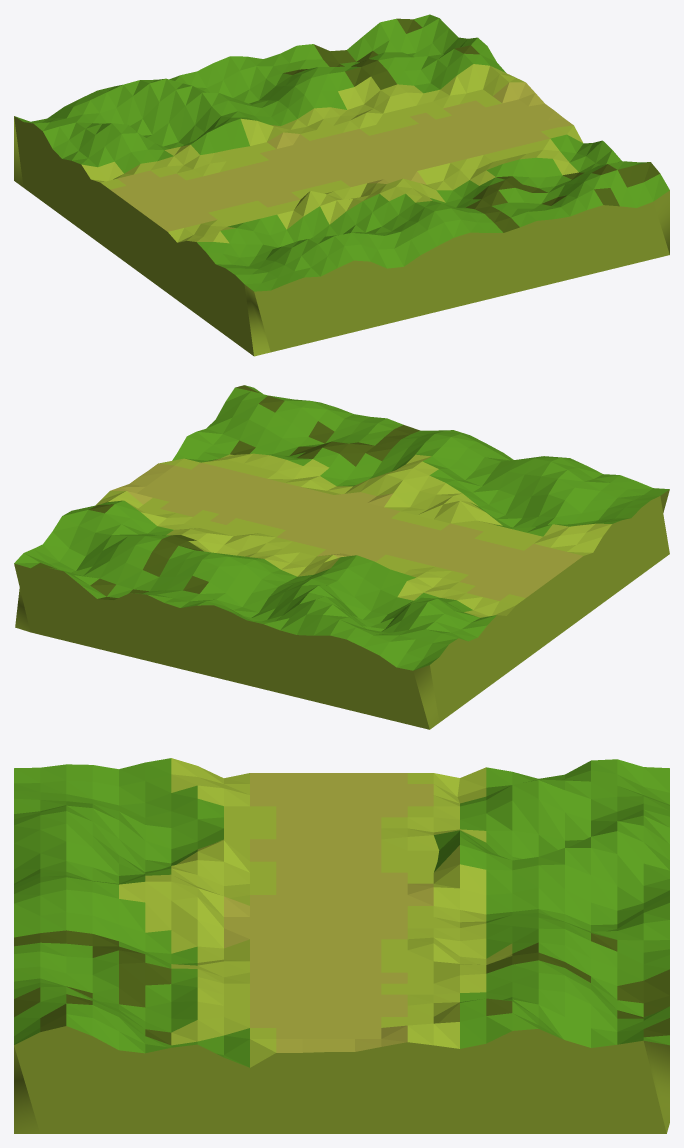
The model's file is ground_l01.FBX.
3 renders of one model, top to bottom at view 1: azimuth 30°, elevation 25°; view 2: azimuth 150°, elevation 25°; view 3: azimuth 270°, elevation 25°, orthographic. The views are drawn at different scales.
Parts seen in each view (by area): view 1: Quader006; view 2: Quader006; view 3: Quader006.
Boxes of the visible parts, x1=… form: Quader006: x1=14, y1=14, x2=669, y2=356; Quader006: x1=14, y1=385, x2=669, y2=729; Quader006: x1=14, y1=758, x2=669, y2=1133.
Bounding box in the file's own units: 0.1995 × 0.1996 × 0.0384.
